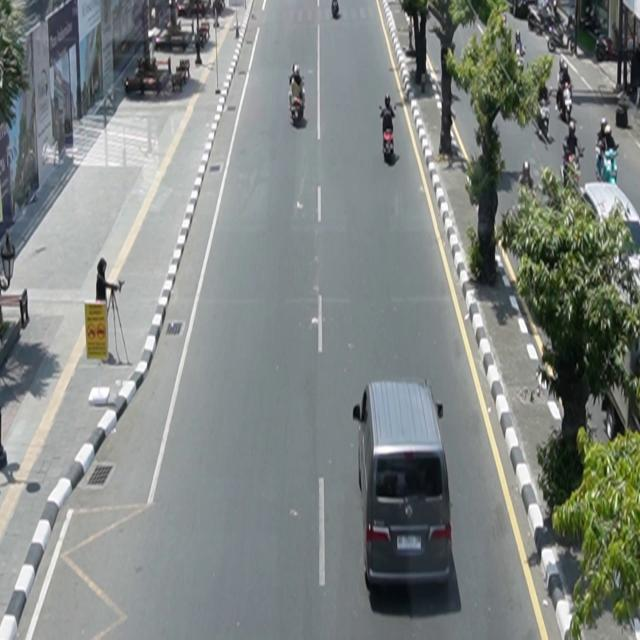car: (353, 377, 453, 594)
